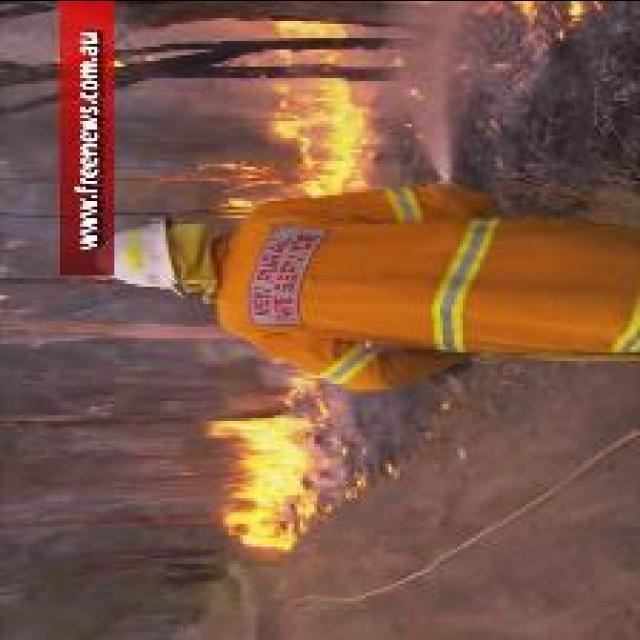Fire: (205, 378, 322, 552), (268, 19, 368, 192)
